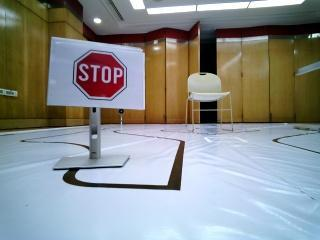stop: (59, 47, 138, 112)
